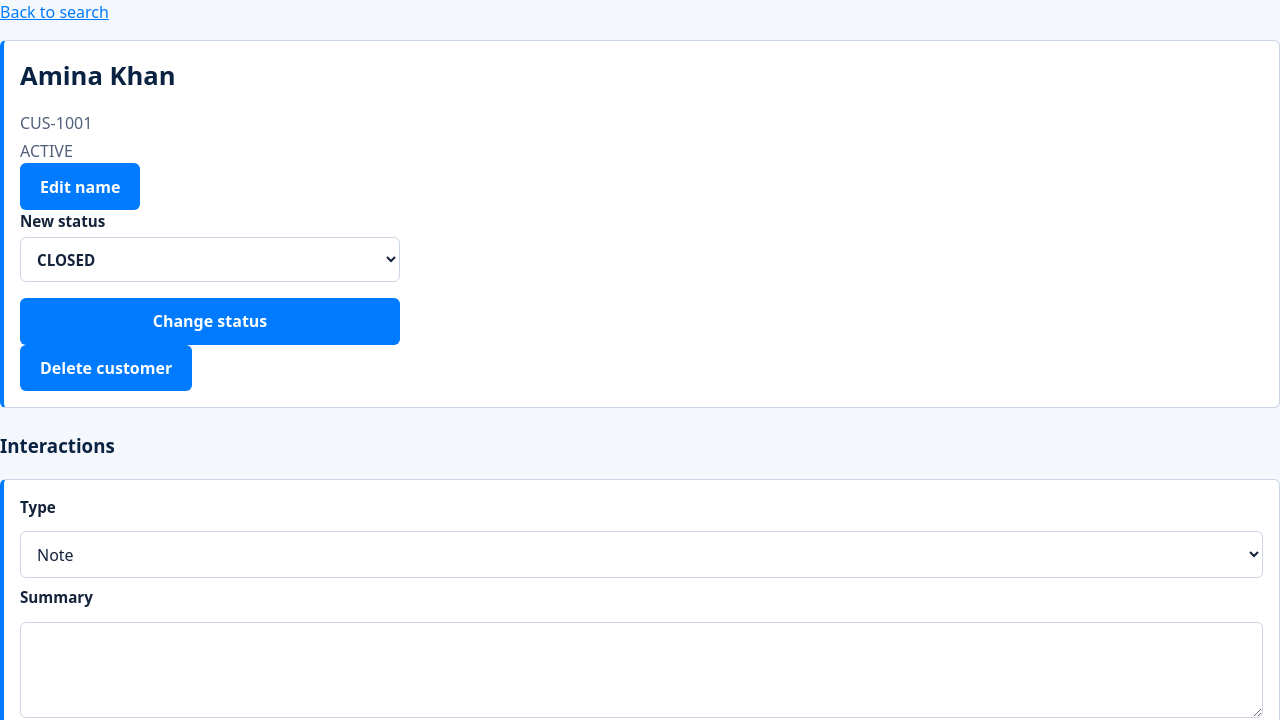
it: CustomerProfilePageComponent › changes status with its version and refetches the profile
Select "CLOSED" in the dropdown labelled "New status": x=210, y=260 x1=20 y1=237 x2=400 y2=282
Submit the form with test id "customer-status-form", box x1=20 y1=210 x2=400 y2=345
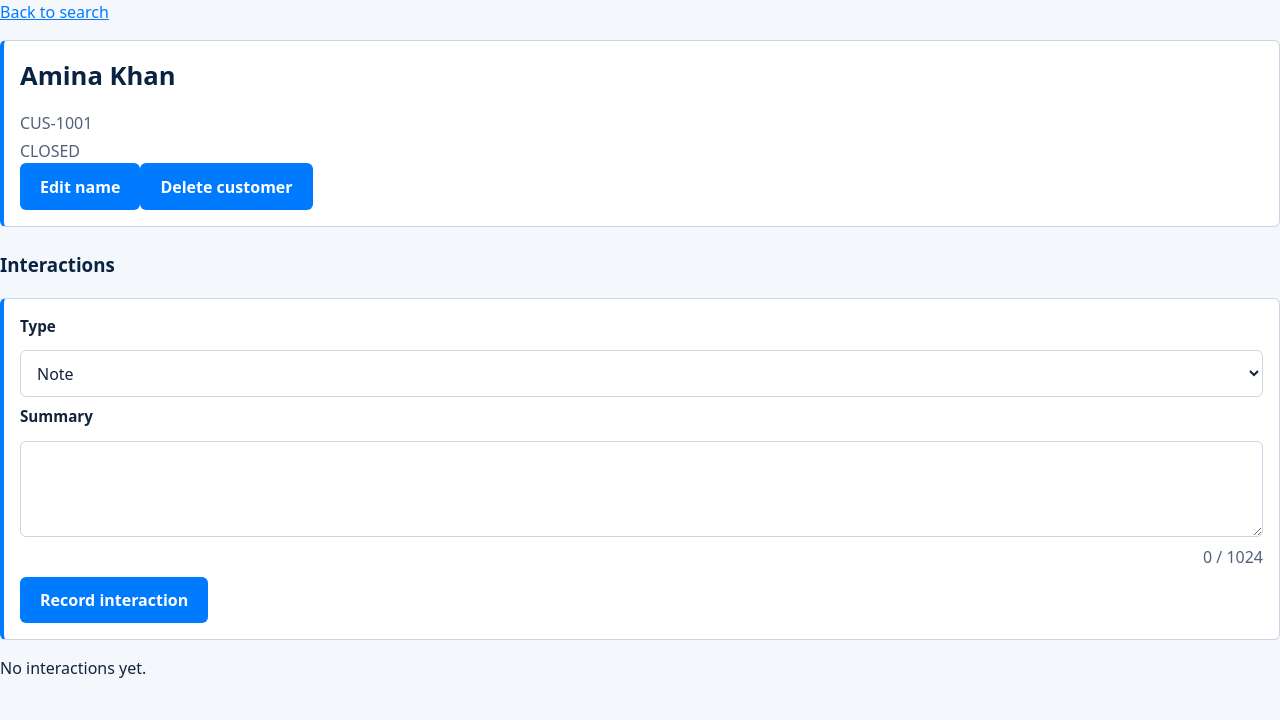
Expected: the text with test id "customer-profile-status" reads "CLOSED", x1=20 y1=140 x2=80 y2=162
Expected: the form with test id "customer-status-form" is gone
